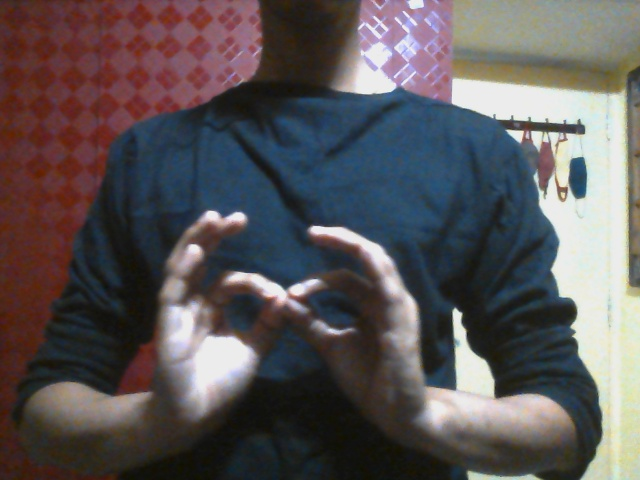B: (153, 210, 427, 448)
